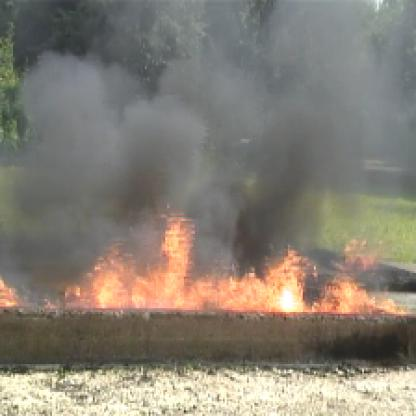Fire: (71, 208, 401, 321)
Smoke: (24, 2, 269, 226)
